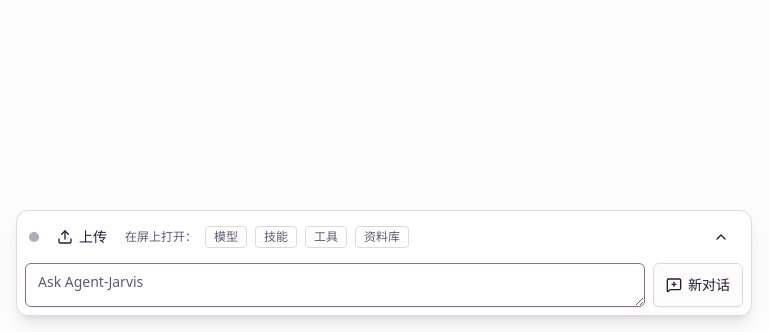
Scenario: FloatingChat › collapse panel › sending while collapsed auto-expands and clears the stored preference (TEST-031 ⑤)
Type "hi" into the text box with placeholder "Ask Agent-Jarvis". click: (335, 285)
box: [25,263,645,307]
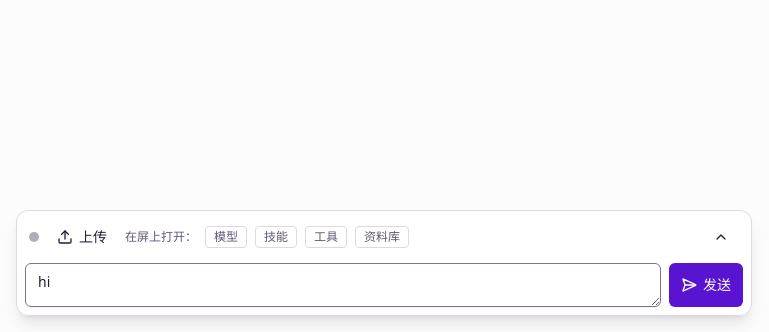
Submit the form with placeholder "Ask Agent-Jarvis", box [25,263,743,307]
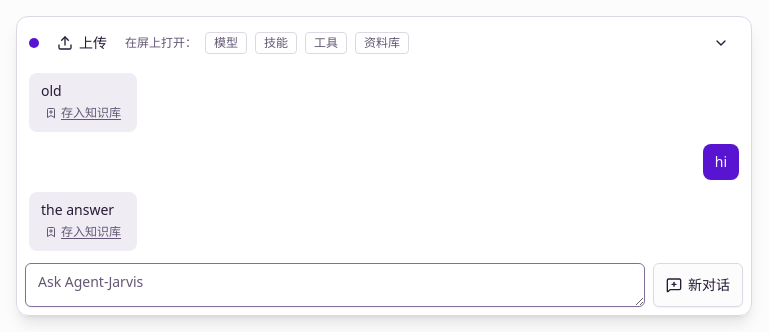
expect the text "the answer" is shown: met, box [41,200,125,220]
expect the element with class "floating-chat__messages" is shown: met, box [25,69,743,255]
